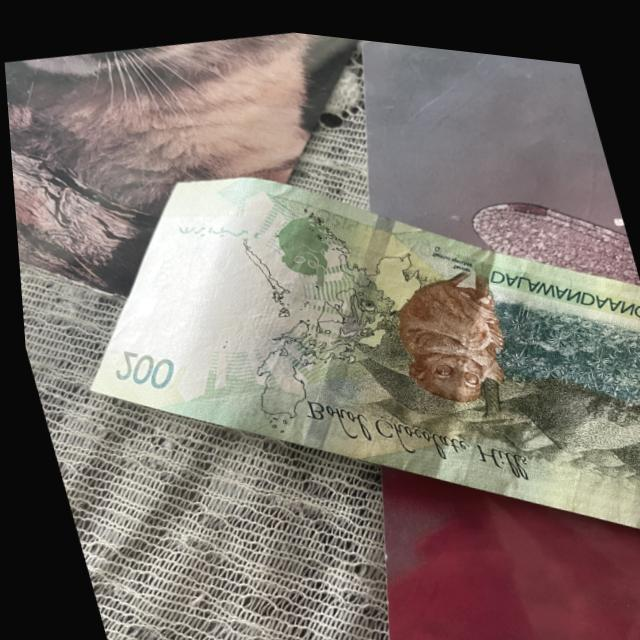200_tarsier: (362, 224, 558, 430)
200_tarsier_watermark: (266, 193, 353, 287)
